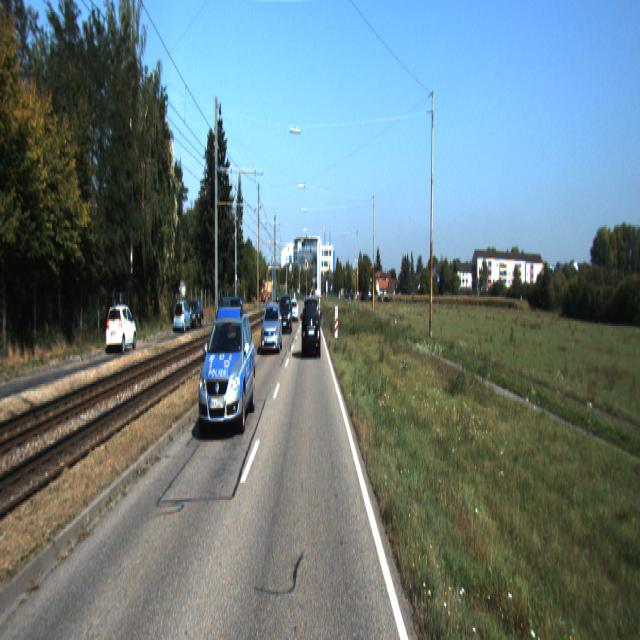Car: (198, 296, 258, 440), (106, 304, 138, 356), (302, 296, 321, 358), (261, 301, 283, 354), (173, 300, 192, 336), (186, 297, 204, 329), (279, 297, 292, 338), (290, 299, 299, 321)
